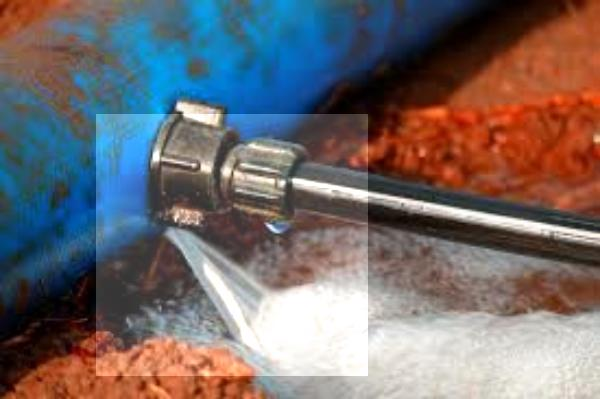water: (96, 114, 368, 376)
